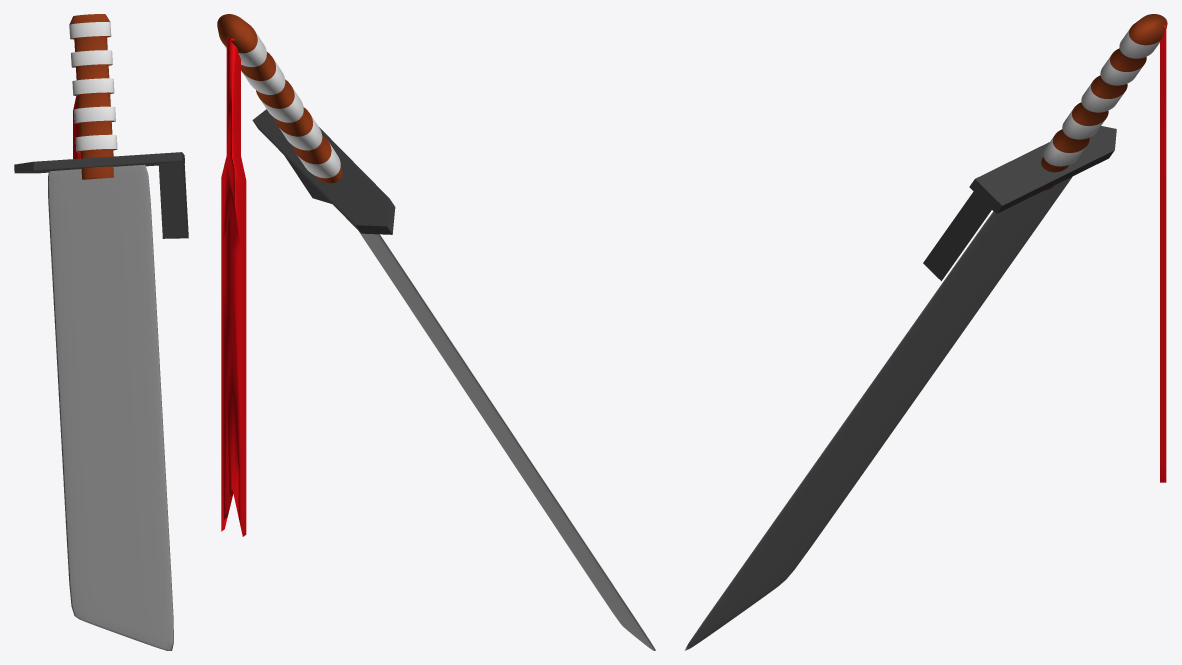
The model's file is grosseberta.fbx.
3 views of the same model, side by side, from view 1: azimuth 30°, elevation 25°; view 2: azimuth 150°, elevation 25°; view 3: azimuth 270°, elevation 25° (orthographic). The views are drawn at different scales.
Visible parts, largest first — view 1: Plane, Cylinder.001, Cube; view 2: Plane.002, Plane, Cylinder.001, Cube; view 3: Plane, Cube, Cylinder.001, Plane.002.
Part boxes in pixels (x1,y1,x2,y2): Plane: (48, 164, 173, 650); Cylinder.001: (69, 14, 117, 179); Cube: (14, 152, 188, 238); Plane.002: (221, 36, 246, 536); Plane: (359, 231, 655, 650); Cylinder.001: (217, 14, 342, 183); Cube: (252, 109, 395, 234); Plane: (684, 176, 1072, 650); Cube: (923, 126, 1116, 280); Cylinder.001: (1041, 14, 1167, 190); Plane.002: (1160, 24, 1166, 482).
Size of the model in its own units: 158 by 401 by 254.
